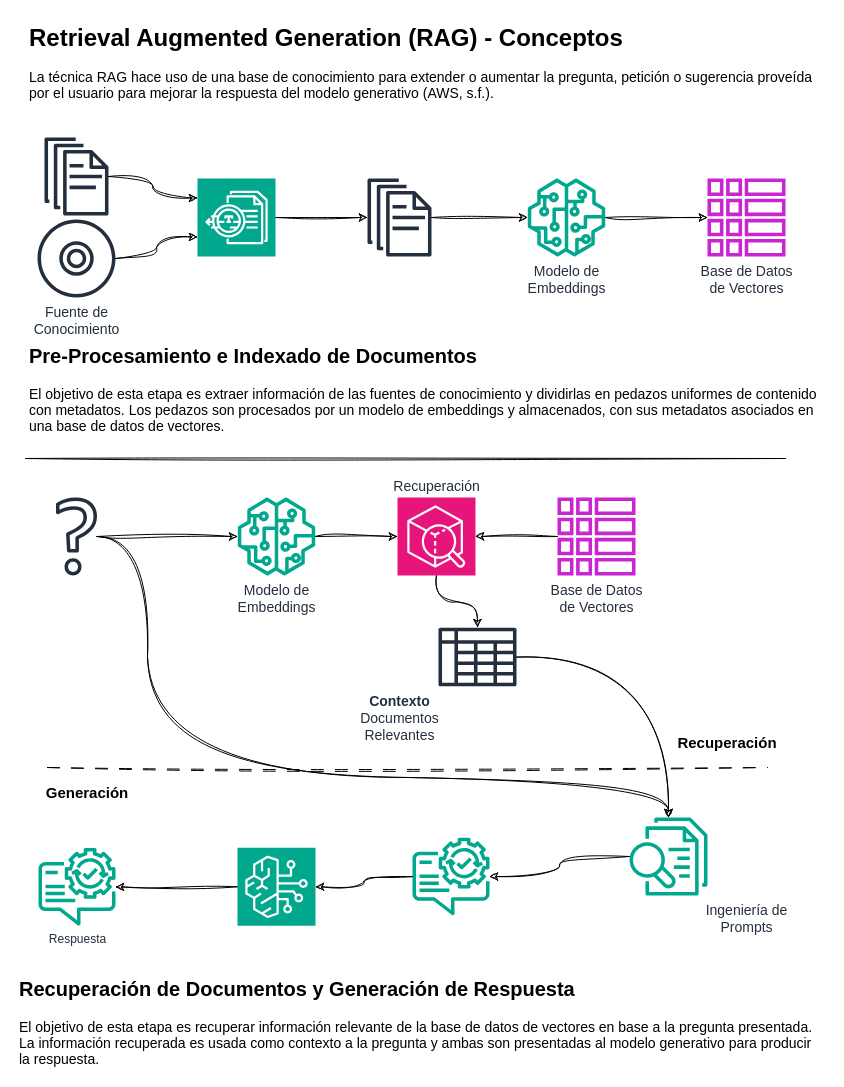
The diagram is 844 pixels wide and 1087 high, and some of its shapes have lost their labels. Each missing label, with the centre of its shape:
"Extracción" goes at [236,217].
"Modelo Generativo" goes at [276,886].
"Pedazos o Chunks con Metadatos" goes at [399,217].
"Pregunta" goes at [76,536].
"Prompt Extendido (Pregunta + Contexto)" goes at [450,876].
